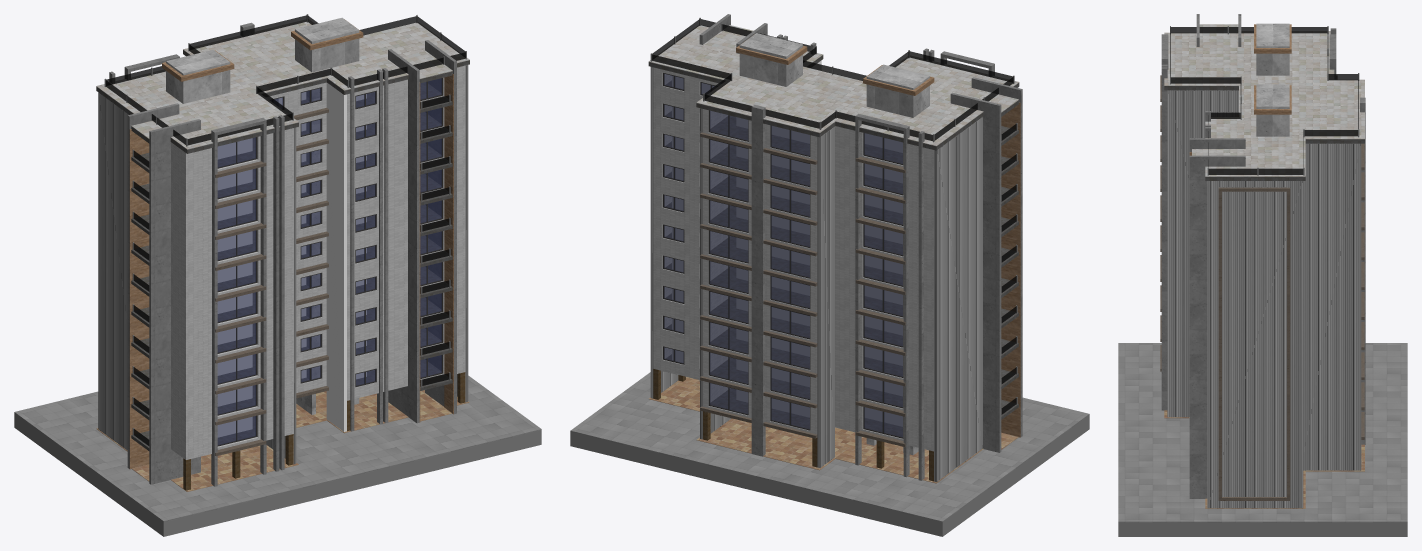
Rendered from BuildingSteam.gltf.
3 renders of one model, left to right at view 1: azimuth 30°, elevation 25°; view 2: azimuth 150°, elevation 25°; view 3: azimuth 270°, elevation 25°, orthographic. The views are drawn at different scales.
Parts seen in each view (by area): view 1: Line001, Box023, Shape012_16 - Matte Plastic_0, Box041, Box020, Box022, Box038, Line004, Box019, Box178, Line002, Shape013_02 - Default_0 (+35 smaller); view 2: Line001, Box023, Box041, Shape012_16 - Matte Plastic_0, Line004, Box022, Box021, Shape013_02 - Default_0, Box042, Box164, Line005, Box179 (+48 smaller); view 3: Box039, Box023, Box040, Shape012_16 - Matte Plastic_0, Box037, Box001, Box022, Rectangle001, Line005, Box180, Box291, Box292 (+6 smaller).
Boxes of the visible parts, box(x1,y1,x2,y2) form: Line001: box(171, 65, 465, 459); Box023: box(14, 375, 541, 522); Shape012_16 - Matte Plastic_0: box(96, 20, 469, 149); Box041: box(98, 92, 128, 450); Box020: box(149, 119, 200, 484); Box022: box(14, 413, 541, 536); Box038: box(326, 82, 346, 431); Line004: box(217, 92, 366, 437); Box019: box(388, 49, 419, 423); Box178: box(129, 129, 149, 469); Line002: box(211, 117, 266, 486); Shape013_02 - Default_0: box(96, 390, 469, 491); Line001: box(653, 67, 933, 451); Box023: box(570, 372, 1089, 522); Box041: box(934, 117, 982, 481); Shape012_16 - Matte Plastic_0: box(648, 25, 1019, 146); Line004: box(672, 76, 902, 426); Box022: box(570, 415, 1089, 536); Box021: box(950, 92, 1001, 452); Shape013_02 - Default_0: box(649, 377, 1018, 483); Box042: box(817, 126, 834, 467); Box164: box(751, 105, 765, 456); Line005: box(652, 19, 1013, 141); Box179: box(1001, 102, 1020, 437); Box039: box(1207, 181, 1303, 508); Box023: box(1118, 343, 1407, 522); Box040: box(1303, 143, 1361, 470); Shape012_16 - Matte Plastic_0: box(1164, 24, 1364, 176); Box037: box(1167, 90, 1238, 417); Box001: box(1189, 155, 1245, 498); Box022: box(1118, 523, 1407, 536); Rectangle001: box(1218, 187, 1290, 500); Line005: box(1170, 27, 1358, 174); Box180: box(1161, 67, 1167, 410); Box291: box(1256, 23, 1289, 75); Box292: box(1256, 84, 1289, 136).
Bounding box in the file's own units: 38.39 × 37.82 × 26.27.
Materials: 19 (12 with a texture image).
